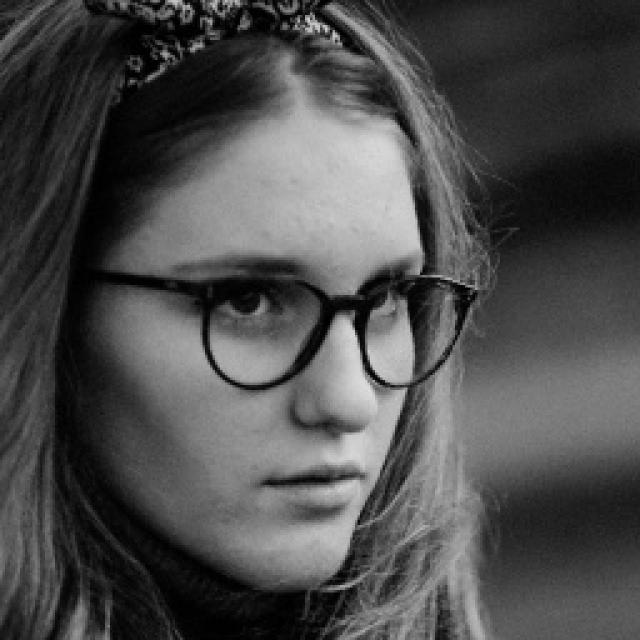glasses: (75, 247, 487, 397)
